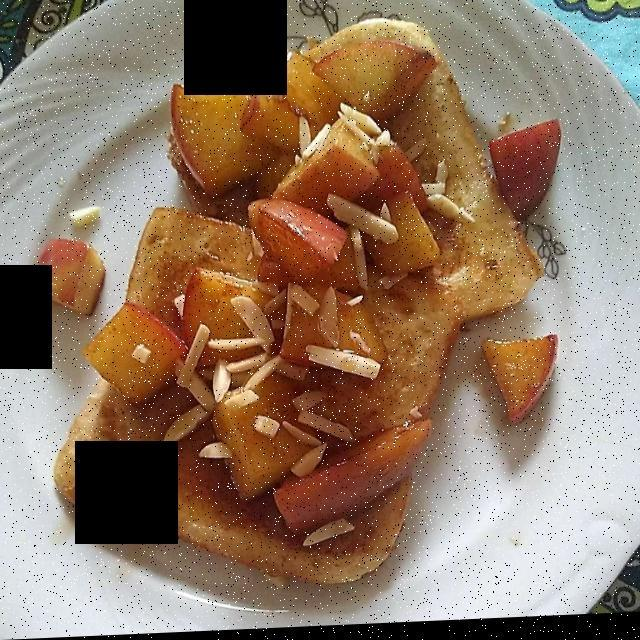apple: (24, 37, 558, 527)
bread: (56, 205, 464, 588), (168, 20, 538, 356)
